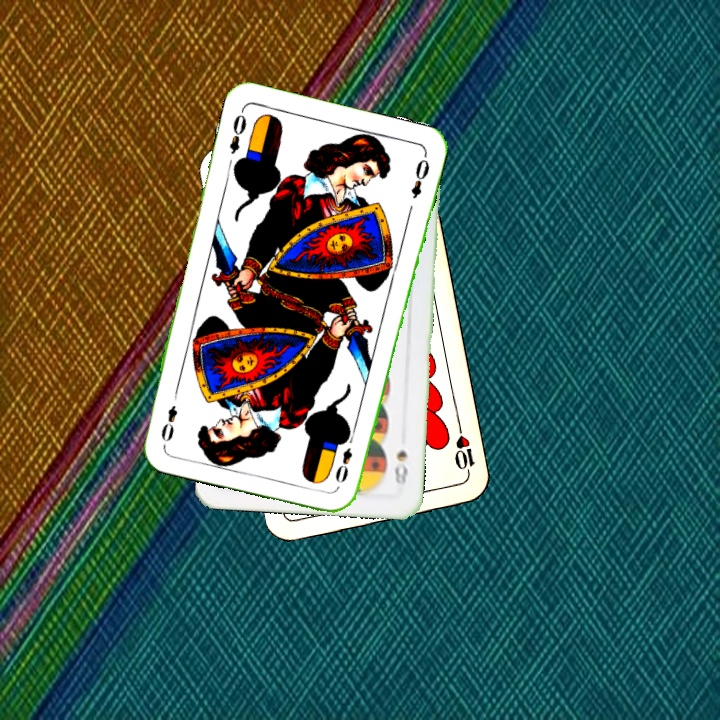EO: (331, 431, 357, 485), (225, 105, 249, 157)
H10: (450, 431, 477, 481)
S8: (390, 446, 410, 487)
